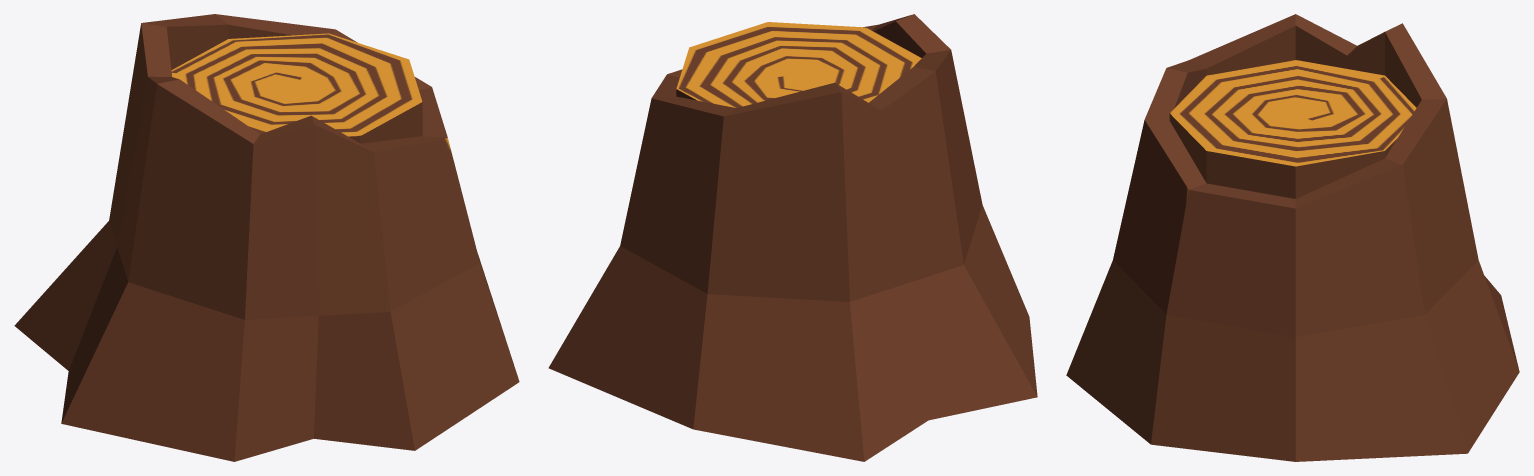
Rendered from treestump.fbx.
3 views of the same model, side by side, from view 1: azimuth 30°, elevation 25°; view 2: azimuth 150°, elevation 25°; view 3: azimuth 270°, elevation 25° (orthographic). The views are drawn at different scales.
Parts seen in each view (by area): view 1: boomstronk; view 2: boomstronk; view 3: boomstronk.
Boxes of the visible parts, x1,y1,x2,y2 form: boomstronk: (14,14,519,461); boomstronk: (548,14,1037,461); boomstronk: (1066,14,1519,461).
Size of the model in its own units: 3.69 by 2.69 by 3.59.
1 material, 1 textured.
